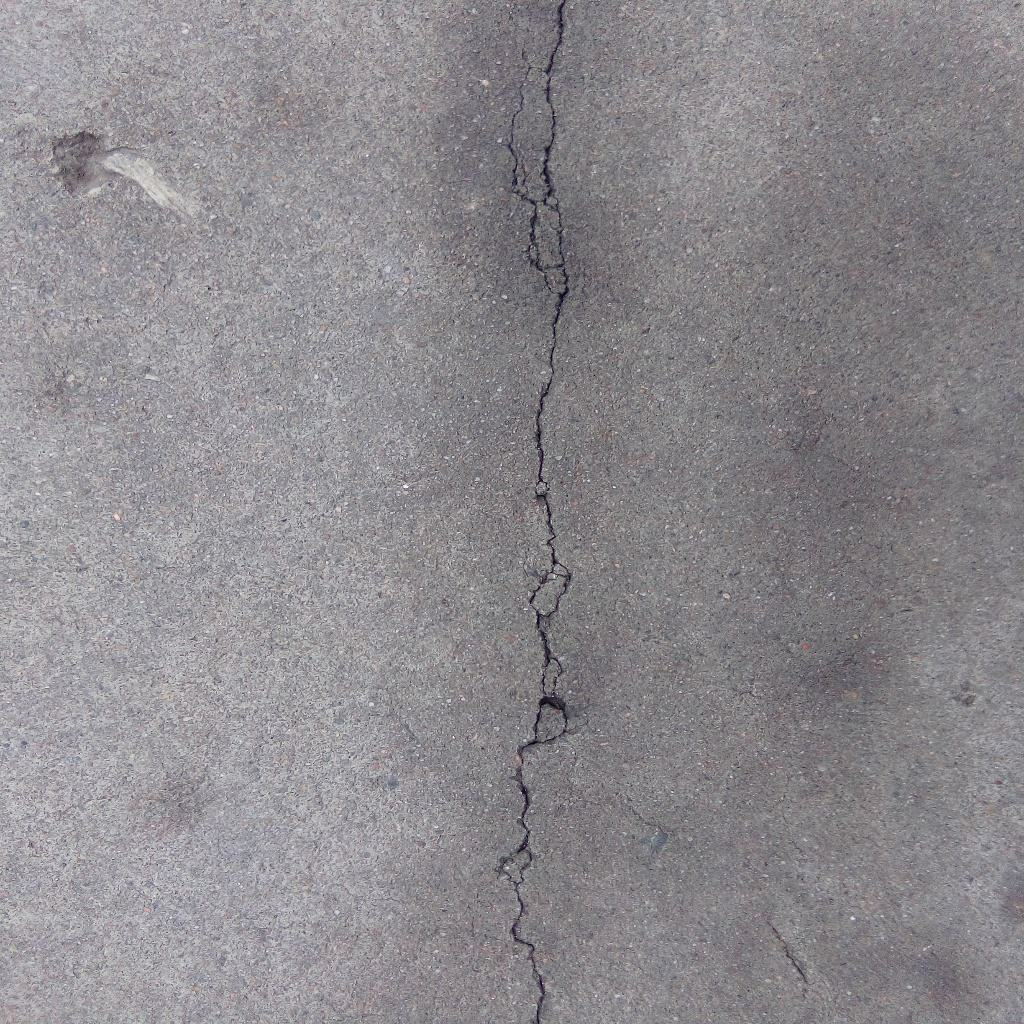Crack: (494, 1, 576, 1024)
Spalling: (49, 130, 127, 197)
